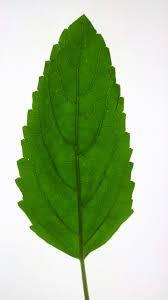healthy_leaf: (18, 12, 141, 300)
